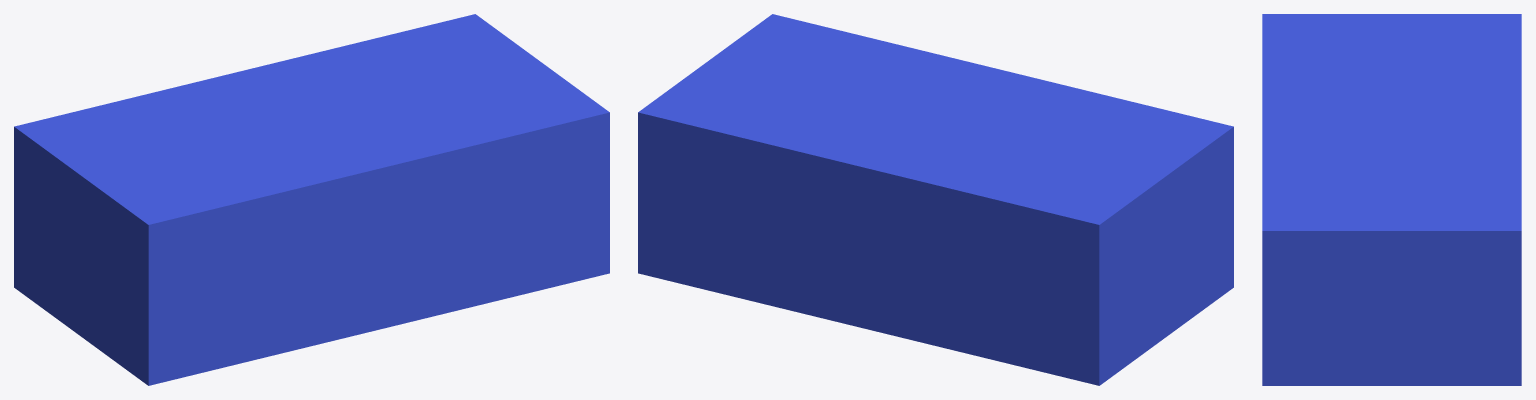
3 renders of one model, left to right at view 1: azimuth 30°, elevation 25°; view 2: azimuth 150°, elevation 25°; view 3: azimuth 270°, elevation 25°, orthographic. The views are drawn at different scales.
Visible parts, largest first — view 1: Component; view 2: Component; view 3: Component.
Boxes of the visible parts, box(x1,y1,x2,y2) form: Component: box(14, 14, 609, 385); Component: box(638, 14, 1233, 385); Component: box(1262, 14, 1521, 385).
Size of the model in its own units: 5.98 by 1.99 by 3.02.
